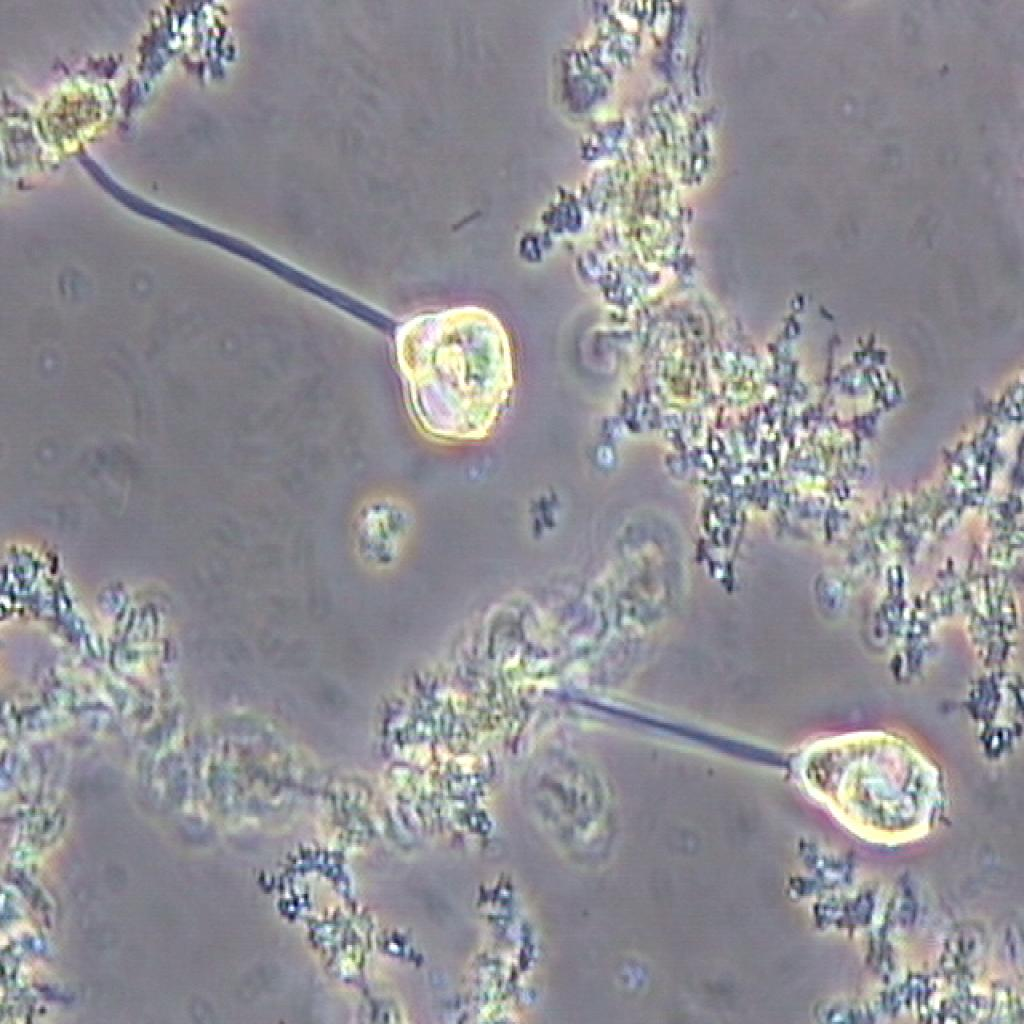Vorticella: (96, 135, 517, 460), (502, 627, 968, 864)
